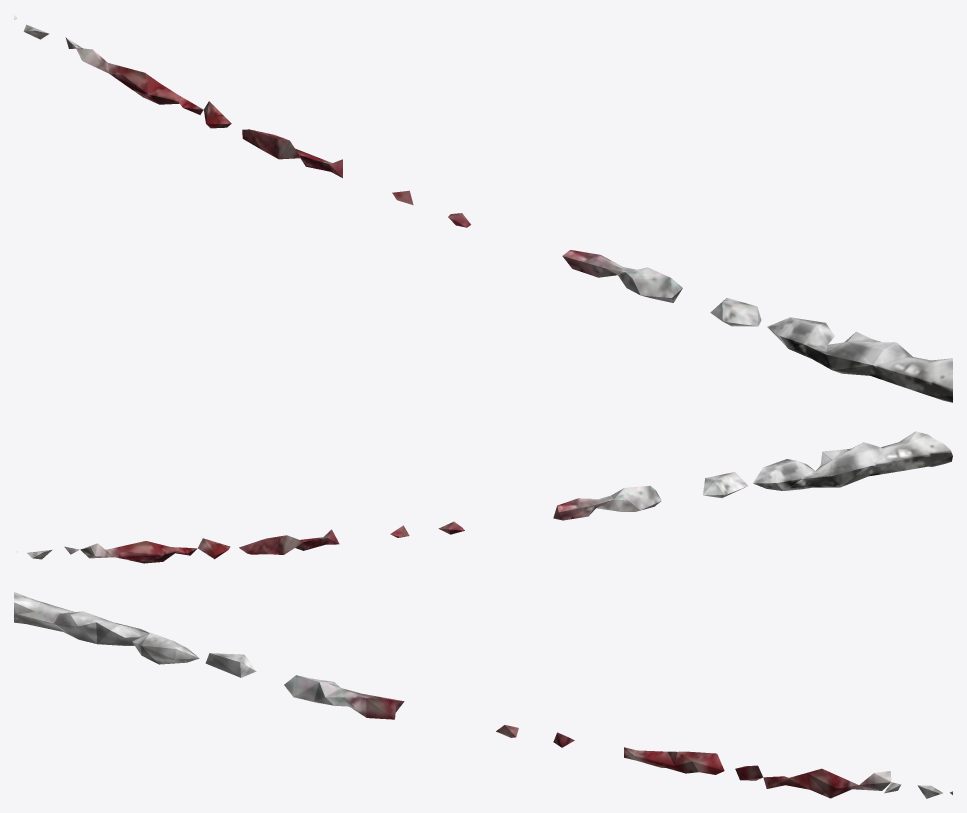
3 views of the same model, one above another, from view 1: azimuth 90°, elevation 25°; view 2: azimuth 150°, elevation 25°; view 3: azimuth 270°, elevation 25° (orthographic). The views are drawn at different scales.
Bounding box in the file's own units: 0.6066 × 0.1067 × 0.8374.
1 material, 1 textured.
